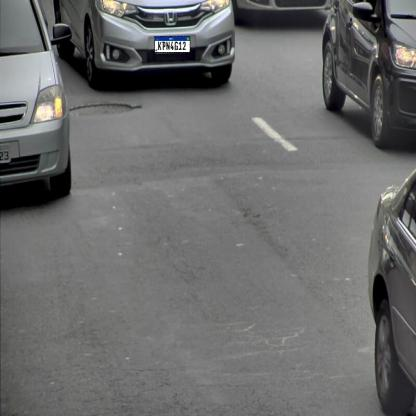PlacaM: (154, 36, 191, 53)
